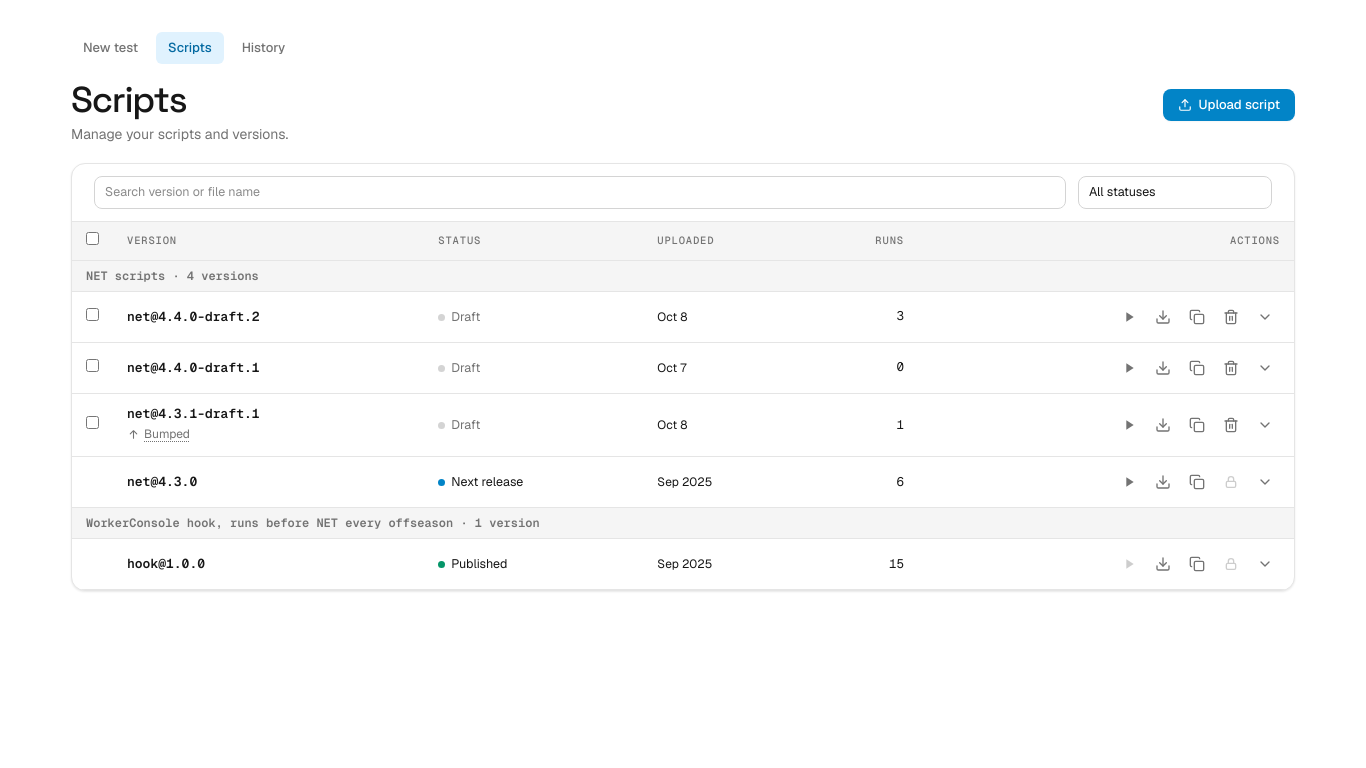
Test case: LabScriptsView › bulk-deletes selected drafts
The image size is (1366, 768).
Click the checkbox with test id "select-all" at (92, 238), box [86,232,99,245]
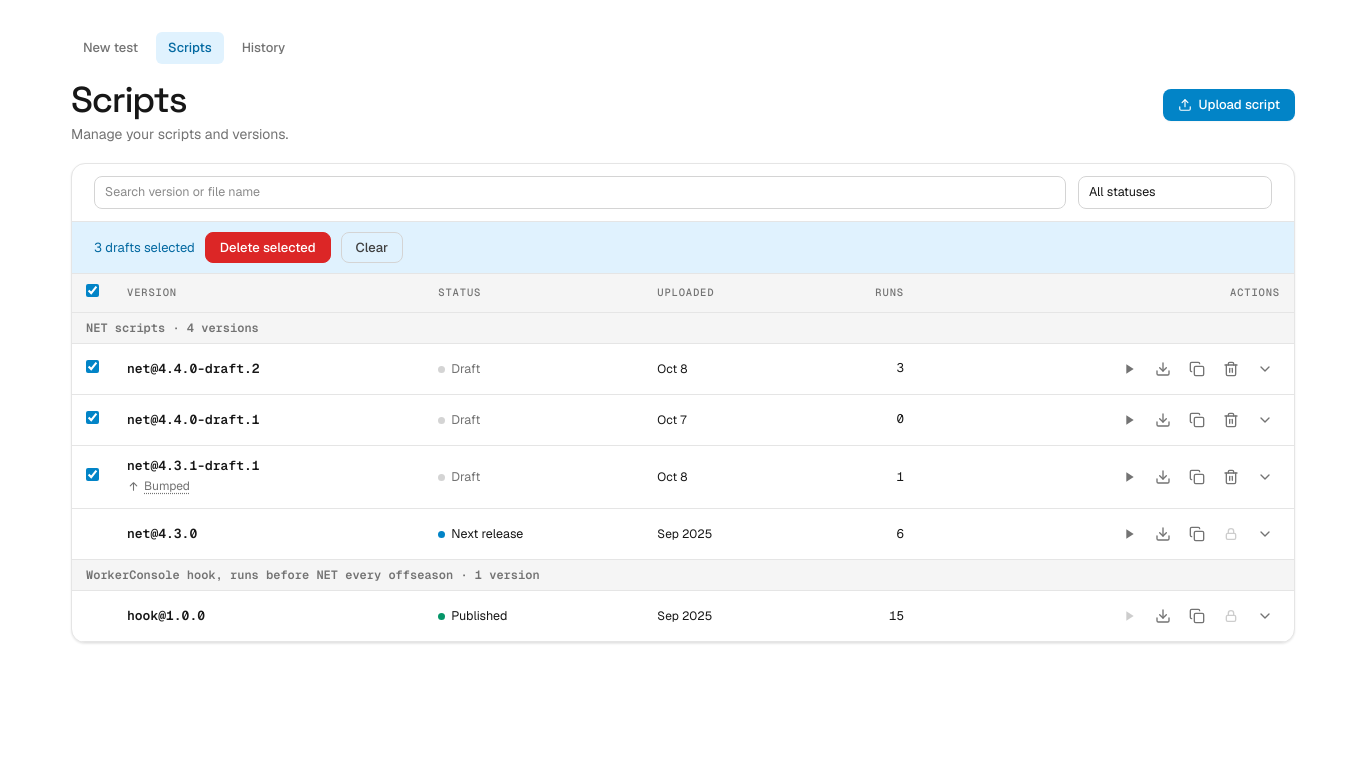
expect the element with test id "bulk" shows "3 drafts selected": met, box [94,239,195,256]
Click the button with test id "bulk-delete" at (268, 248), box [205,232,330,263]
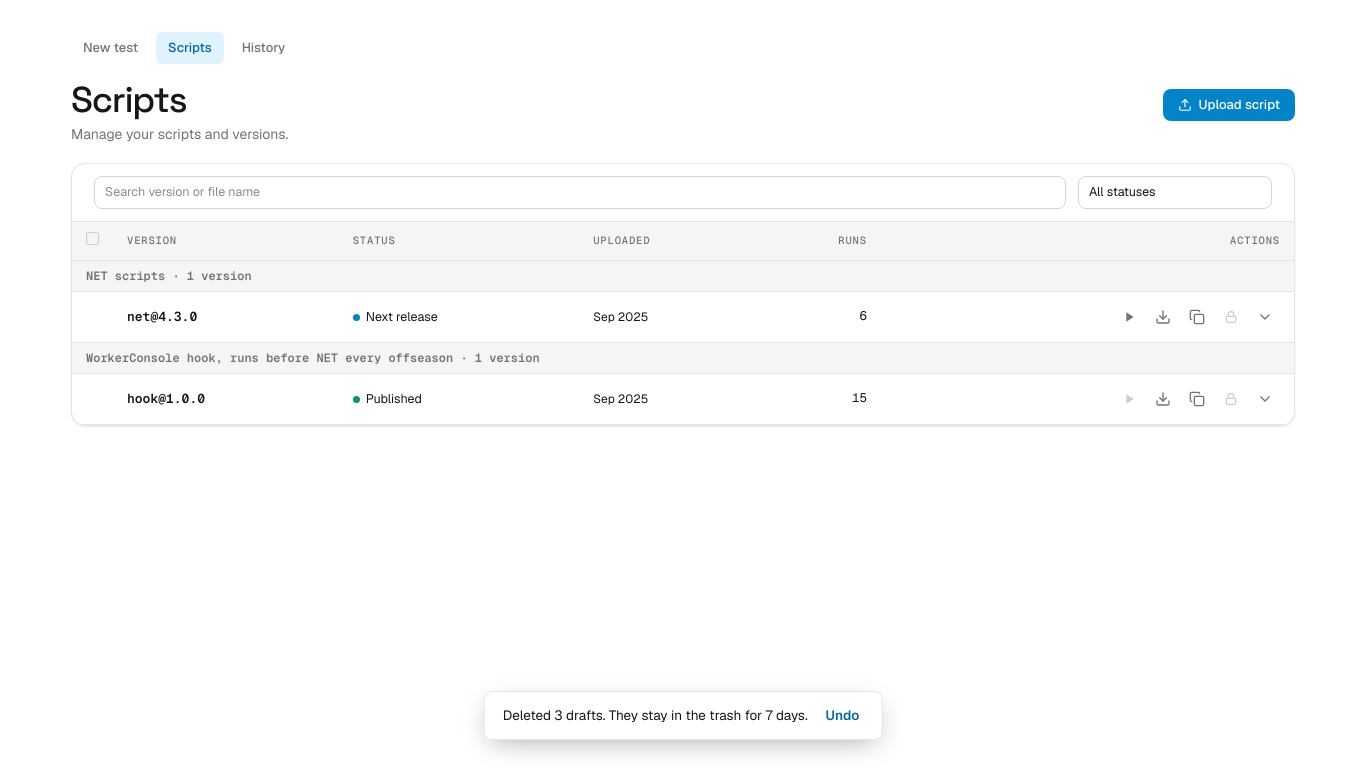
expect the message with class "toast" shows "Deleted 3 drafts.": met, box [503,706,808,724]
